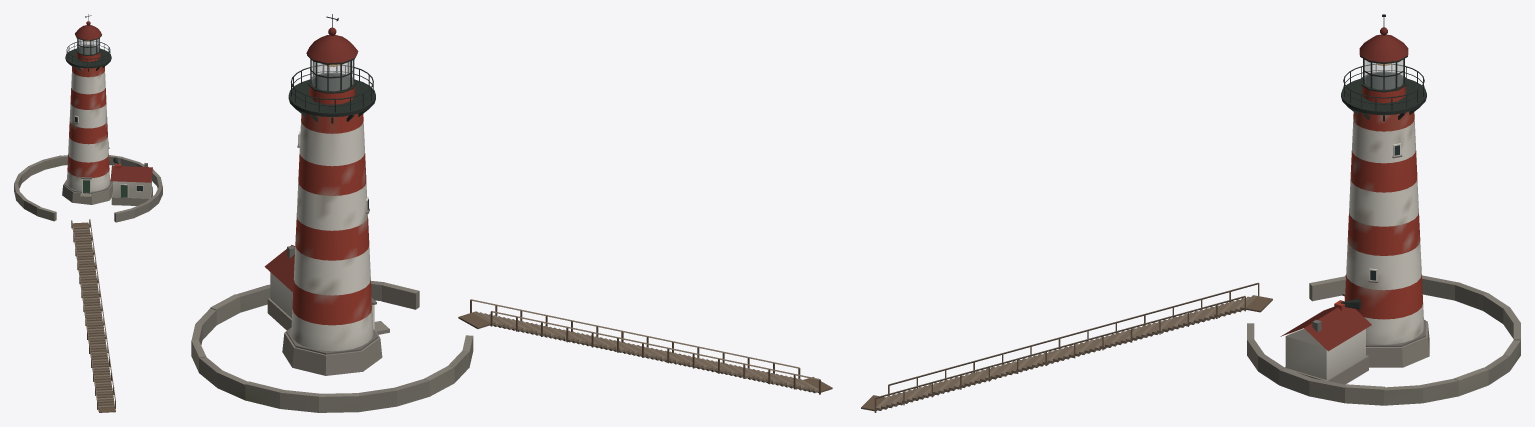
Rendered from lighthouse.glb.
The picture shows the model from 3 angles, left to right: view 1: azimuth 30°, elevation 25°; view 2: azimuth 150°, elevation 25°; view 3: azimuth 270°, elevation 25°; orthographic projection. The views are drawn at different scales.
Parts seen in each view (by area): view 1: lighthouse, walk_lighthouse_stairs, lighthouse_rails_v2; view 2: lighthouse, walk_lighthouse_stairs, lighthouse_rails_v2; view 3: lighthouse, walk_lighthouse_stairs, lighthouse_rails_v2.
Part boxes in pixels (<box>): lighthouse: <box>14,14,162,222</box>; walk_lighthouse_stairs: <box>73,222,115,412</box>; lighthouse_rails_v2: <box>71,219,115,409</box>; lighthouse: <box>191,14,473,412</box>; walk_lighthouse_stairs: <box>458,311,832,393</box>; lighthouse_rails_v2: <box>470,299,820,394</box>; lighthouse: <box>1247,14,1520,405</box>; walk_lighthouse_stairs: <box>861,295,1272,411</box>; lighthouse_rails_v2: <box>874,282,1259,412</box>.
Size of the model in its own units: 31.06 by 41.61 by 49.97.
